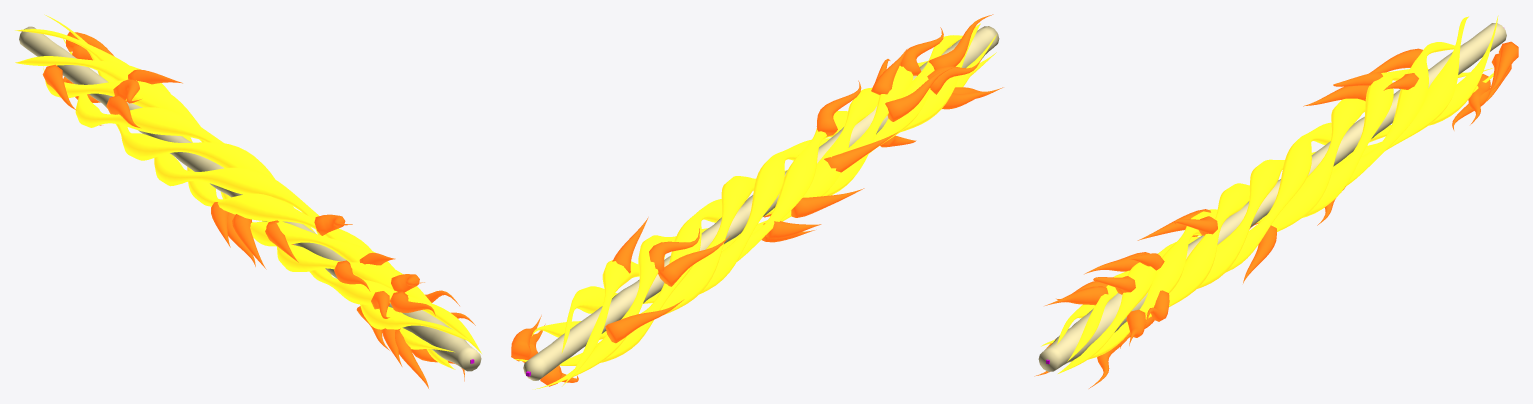
Rendered from FireBeam.fbx.
3 views of the same model, side by side, from view 1: azimuth 30°, elevation 25°; view 2: azimuth 150°, elevation 25°; view 3: azimuth 330°, elevation 25° (orthographic). The views are drawn at different scales.
Parts seen in each view (by area): view 1: Flames, Wisps, Core; view 2: Flames, Wisps, Core; view 3: Flames, Wisps, Core.
Part boxes in pixels (<box>): Flames: <box>15,14,481,369</box>; Wisps: <box>42,31,475,388</box>; Core: <box>19,26,481,371</box>; Flames: <box>514,23,996,389</box>; Wisps: <box>511,14,1003,386</box>; Core: <box>523,26,999,380</box>; Flames: <box>1041,15,1498,373</box>; Wisps: <box>1034,41,1518,388</box>; Core: <box>1038,23,1506,371</box>.
Size of the model in its own units: 3.11 by 2.86 by 24.1.
